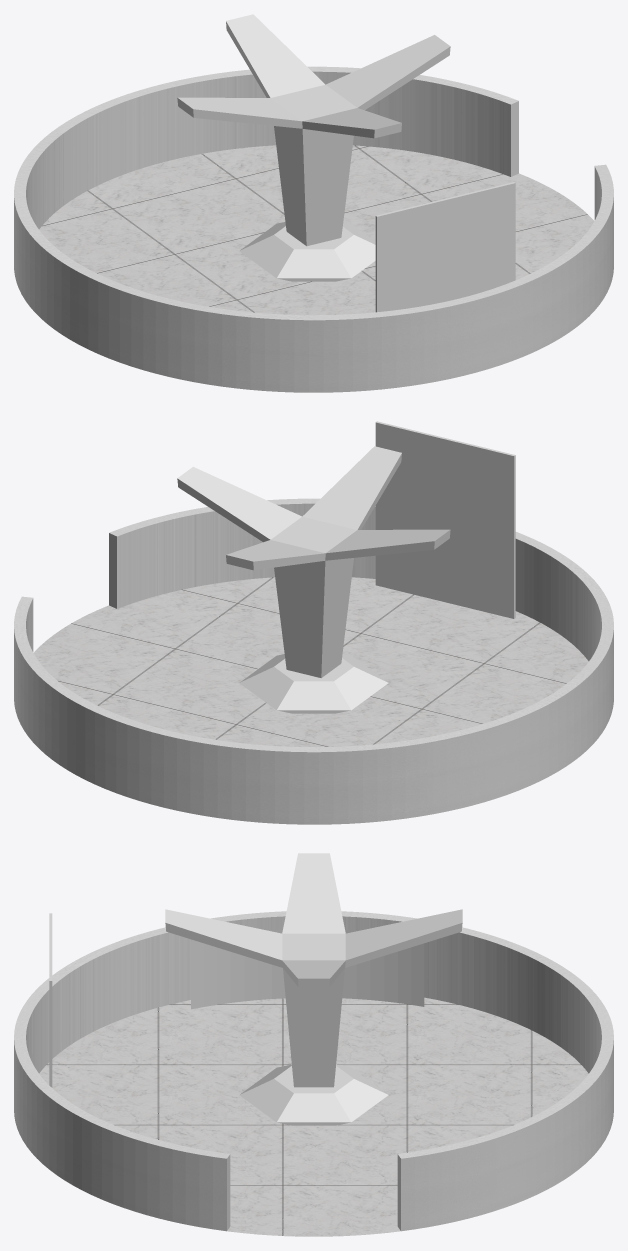
File: showroom.glb
3 renders of one model, top to bottom at view 1: azimuth 30°, elevation 25°; view 2: azimuth 150°, elevation 25°; view 3: azimuth 270°, elevation 25°, orthographic.
Visible parts, largest first — view 1: Wall, Ground, Pillar, Display, Control; view 2: Wall, Ground, Pillar, Display, Control; view 3: Ground, Wall, Pillar, Screen, Control, Display.
Boxes of the visible parts, left/top/right/bottom form: Wall: left=14, top=66, right=613, bottom=392; Ground: left=39, top=145, right=594, bottom=315; Pillar: left=177, top=14, right=450, bottom=246; Display: left=375, top=182, right=515, bottom=312; Control: left=239, top=222, right=375, bottom=281; Wall: left=14, top=498, right=613, bottom=824; Ground: left=33, top=577, right=588, bottom=746; Pillar: left=177, top=446, right=450, bottom=677; Display: left=375, top=421, right=515, bottom=618; Control: left=239, top=654, right=388, bottom=713; Ground: left=39, top=997, right=588, bottom=1236; Wall: left=14, top=911, right=613, bottom=1231; Pillar: left=165, top=853, right=462, bottom=1087; Screen: left=191, top=929, right=424, bottom=1009; Control: left=239, top=1064, right=388, bottom=1125; Display: left=49, top=913, right=52, bottom=1087.
Size of the model in its own units: 30 by 11.01 by 30.
Materials: 2 (2 with a texture image).
